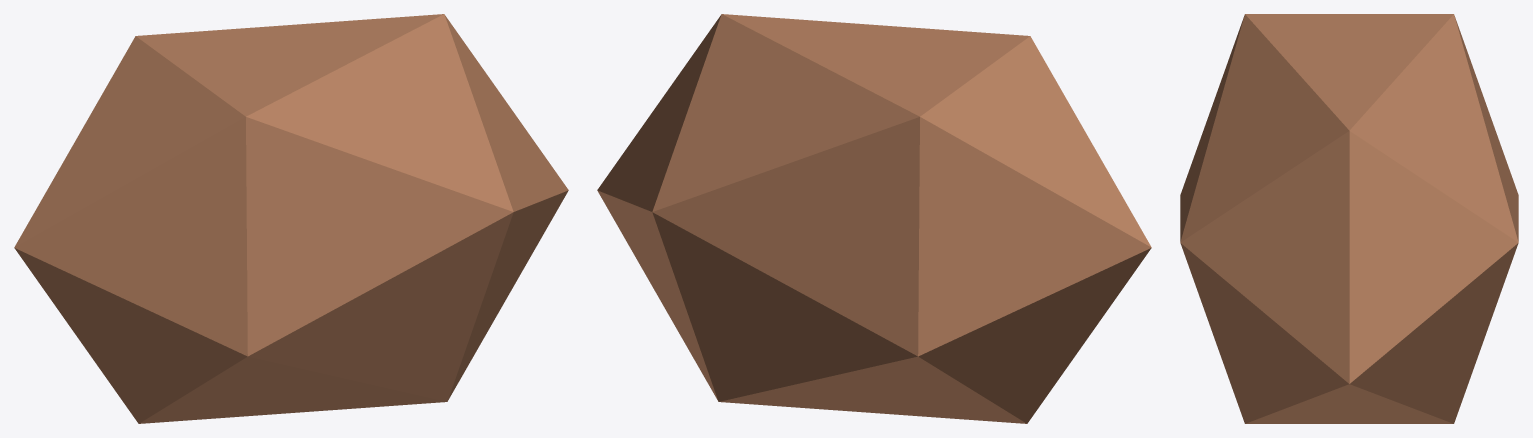
File: Coconut_02.fbx
The picture shows the model from 3 angles, left to right: view 1: azimuth 30°, elevation 25°; view 2: azimuth 150°, elevation 25°; view 3: azimuth 270°, elevation 25°; orthographic projection. The views are drawn at different scales.
Visible parts, largest first — view 1: Coconut_02; view 2: Coconut_02; view 3: Coconut_02.
Part boxes in pixels (x1,y1,x2,y2): Coconut_02: (14, 14, 568, 423); Coconut_02: (597, 14, 1151, 423); Coconut_02: (1180, 14, 1518, 423).
Size of the model in its own units: 50.35 by 29.09 by 28.07.
